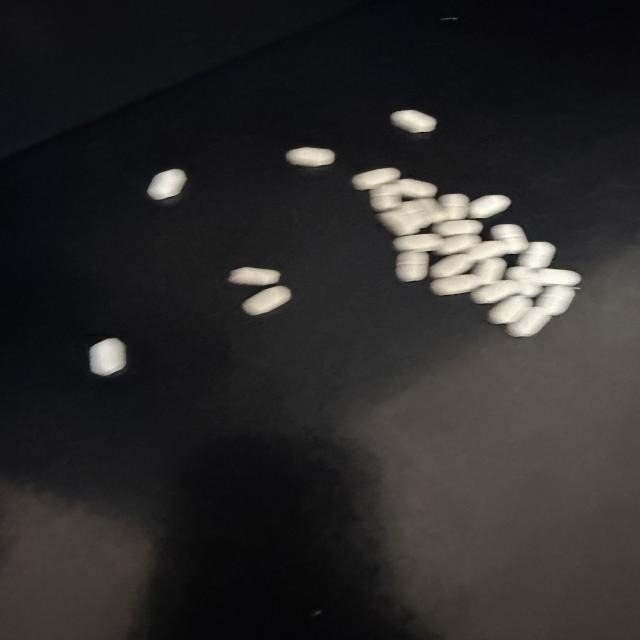pill: (242, 286, 291, 315), (89, 338, 126, 376), (402, 198, 446, 227), (507, 307, 551, 336), (488, 296, 532, 324), (468, 254, 507, 285), (377, 210, 422, 236), (148, 169, 186, 199), (536, 286, 575, 315), (472, 280, 519, 303), (506, 267, 542, 297), (491, 224, 528, 253), (352, 168, 400, 190), (391, 110, 436, 133), (431, 254, 473, 278), (431, 274, 479, 295), (518, 242, 555, 268), (396, 251, 428, 281), (469, 195, 510, 218), (228, 267, 280, 285), (286, 147, 335, 166), (437, 235, 481, 255), (394, 234, 442, 251), (395, 179, 437, 198), (434, 220, 482, 236), (536, 269, 581, 286), (467, 241, 507, 260), (439, 194, 469, 219), (370, 190, 401, 211), (419, 206, 446, 228), (400, 199, 438, 213), (490, 224, 524, 239), (506, 267, 537, 283), (370, 181, 401, 196), (515, 281, 543, 297), (503, 237, 528, 253), (397, 251, 428, 263)
